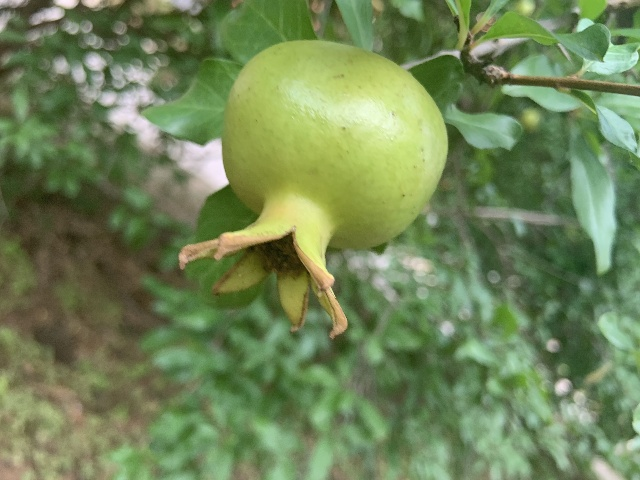mid-growth: (178, 39, 448, 339)
